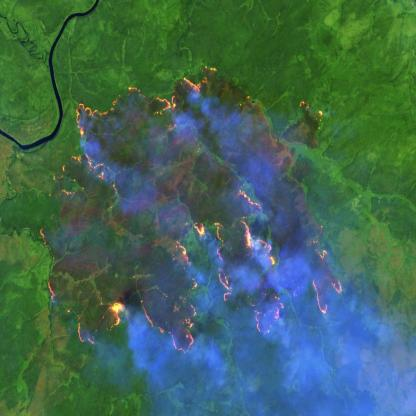fire: (33, 60, 347, 359)
